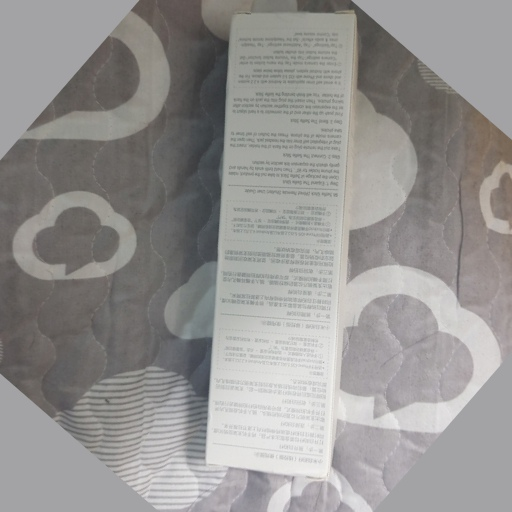Paper_0: (204, 12, 362, 482)
